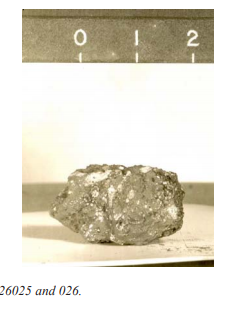Breccia: (74, 147, 179, 246)
